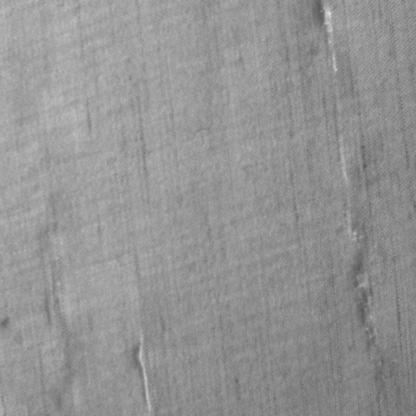thread error: (27, 140, 82, 415), (312, 0, 354, 235), (348, 229, 392, 415), (128, 328, 156, 416)
